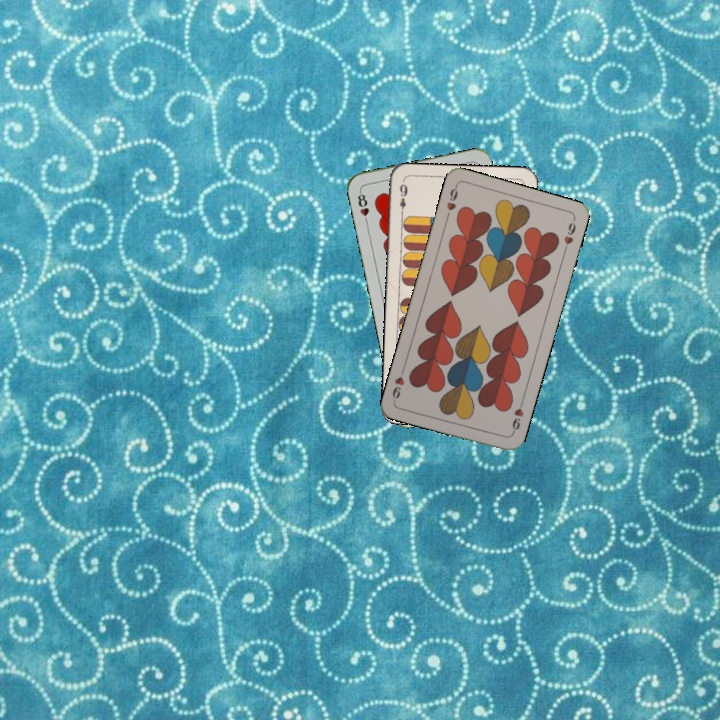E9: (396, 178, 410, 219)
H8: (354, 187, 372, 227)
H9: (442, 182, 460, 222), (508, 397, 526, 437)
